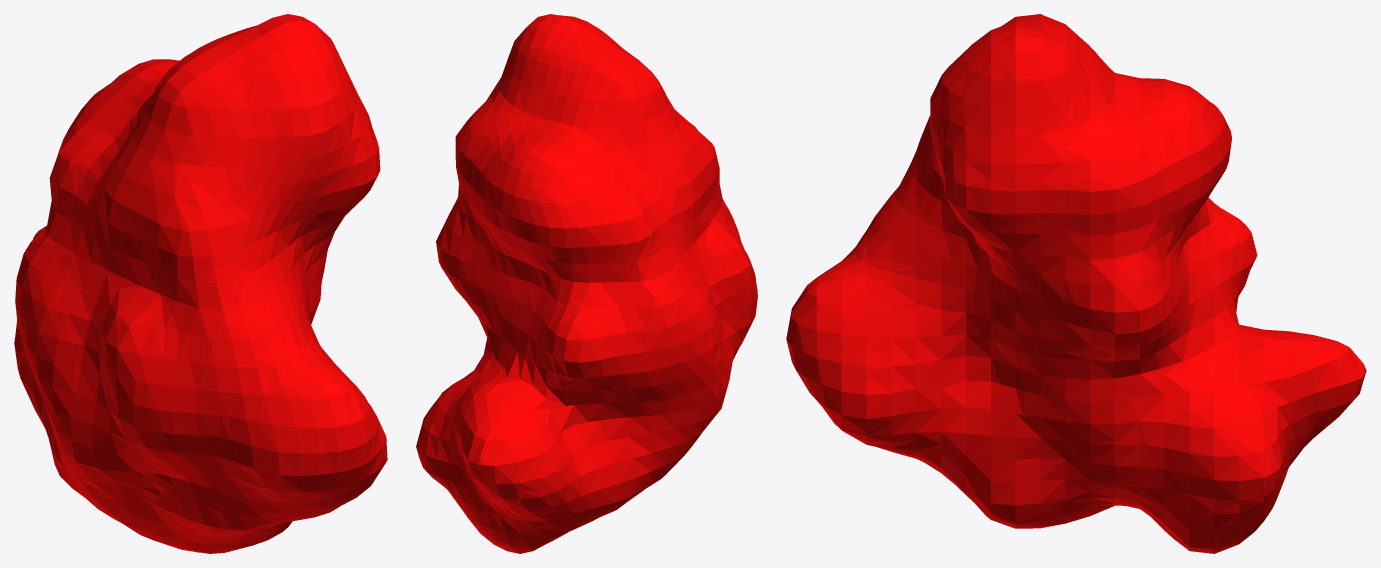
File: grcA_coarse.dae
3 renders of one model, left to right at view 1: azimuth 30°, elevation 25°; view 2: azimuth 150°, elevation 25°; view 3: azimuth 270°, elevation 25°, orthographic. The views are drawn at different scales.
Visible parts, largest first — view 1: grcA; view 2: grcA; view 3: grcA.
Boxes of the visible parts, x1,y1,x2,y2 form: grcA: [14, 14, 387, 553]; grcA: [416, 14, 757, 553]; grcA: [786, 14, 1366, 553].
Size of the model in its own units: 30.99 by 52.25 by 51.13.
